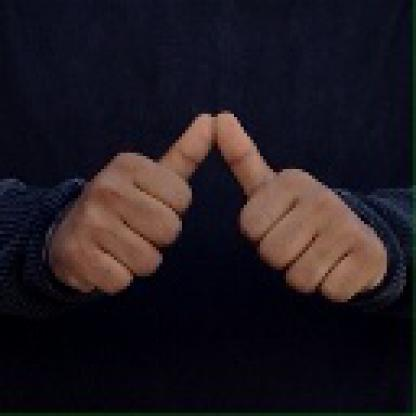A: (47, 103, 382, 311)
